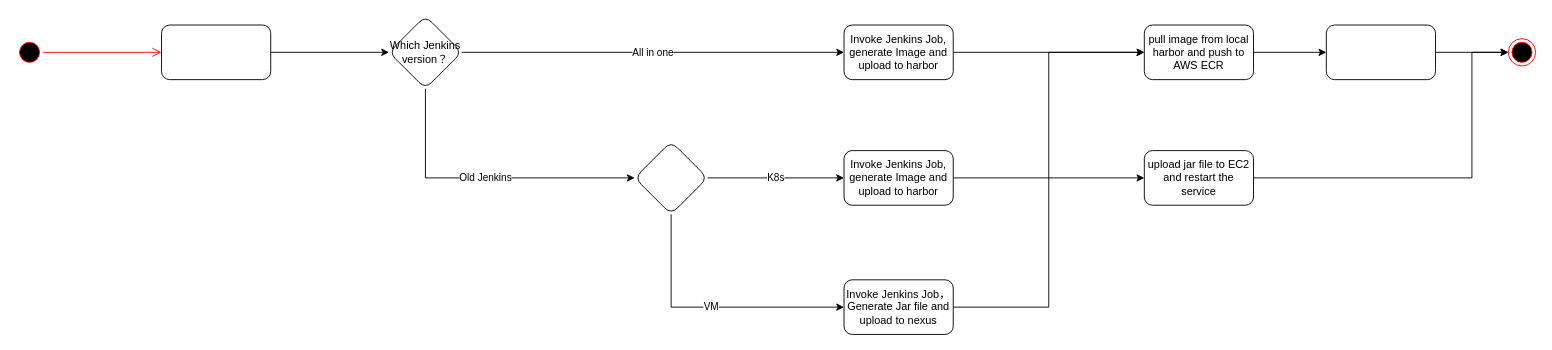
The diagram is 1552 pixels wide and 350 high, and some of its shapes have lost their labels. The centre of each missing label's shape, as x and y in pixels:
Build Application: point 216,52
invoke helm command and deploy application to EKS: point 1380,52
VM or K8s？: point 671,177
